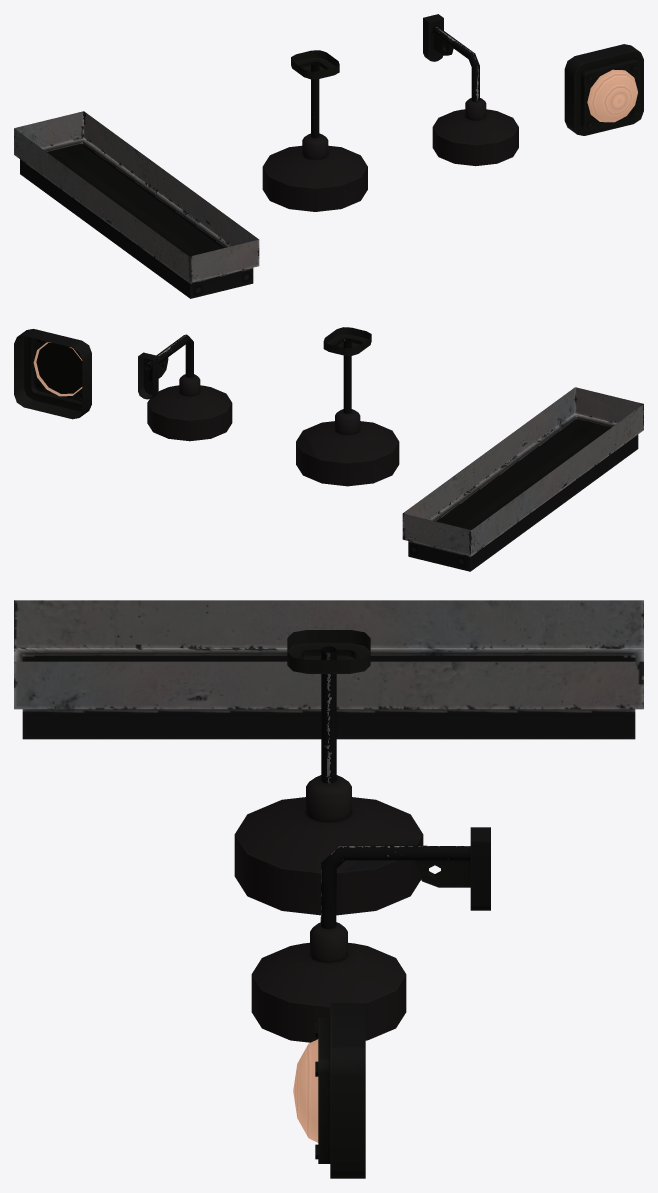
The model's file is lights.fbx.
The picture shows the model from 3 angles, top to bottom: view 1: azimuth 30°, elevation 25°; view 2: azimuth 150°, elevation 25°; view 3: azimuth 270°, elevation 25°; orthographic projection. The views are drawn at different scales.
Visible parts, largest first — view 1: TLlight, lightceiling1, lightwall2, lightwall1; view 2: TLlight, lightceiling1, lightwall2, lightwall1; view 3: TLlight, lightceiling1, lightwall1, lightwall2.
Part boxes in pixels (left/top/right/bottom): TLlight: left=14, top=111, right=259, bottom=298; lightceiling1: left=262, top=50, right=367, bottom=211; lightwall2: left=564, top=44, right=643, bottom=135; lightwall1: left=423, top=14, right=518, bottom=166; TLlight: left=402, top=387, right=643, bottom=571; lightceiling1: left=296, top=327, right=399, bottom=486; lightwall2: left=14, top=329, right=91, bottom=419; lightwall1: left=138, top=334, right=232, bottom=441; TLlight: left=14, top=600, right=643, bottom=739; lightceiling1: left=234, top=630, right=423, bottom=915; lightwall1: left=251, top=827, right=490, bottom=1042; lightwall2: left=293, top=1003, right=365, bottom=1178.
Size of the model in its own units: 254 by 63.22 by 142.
